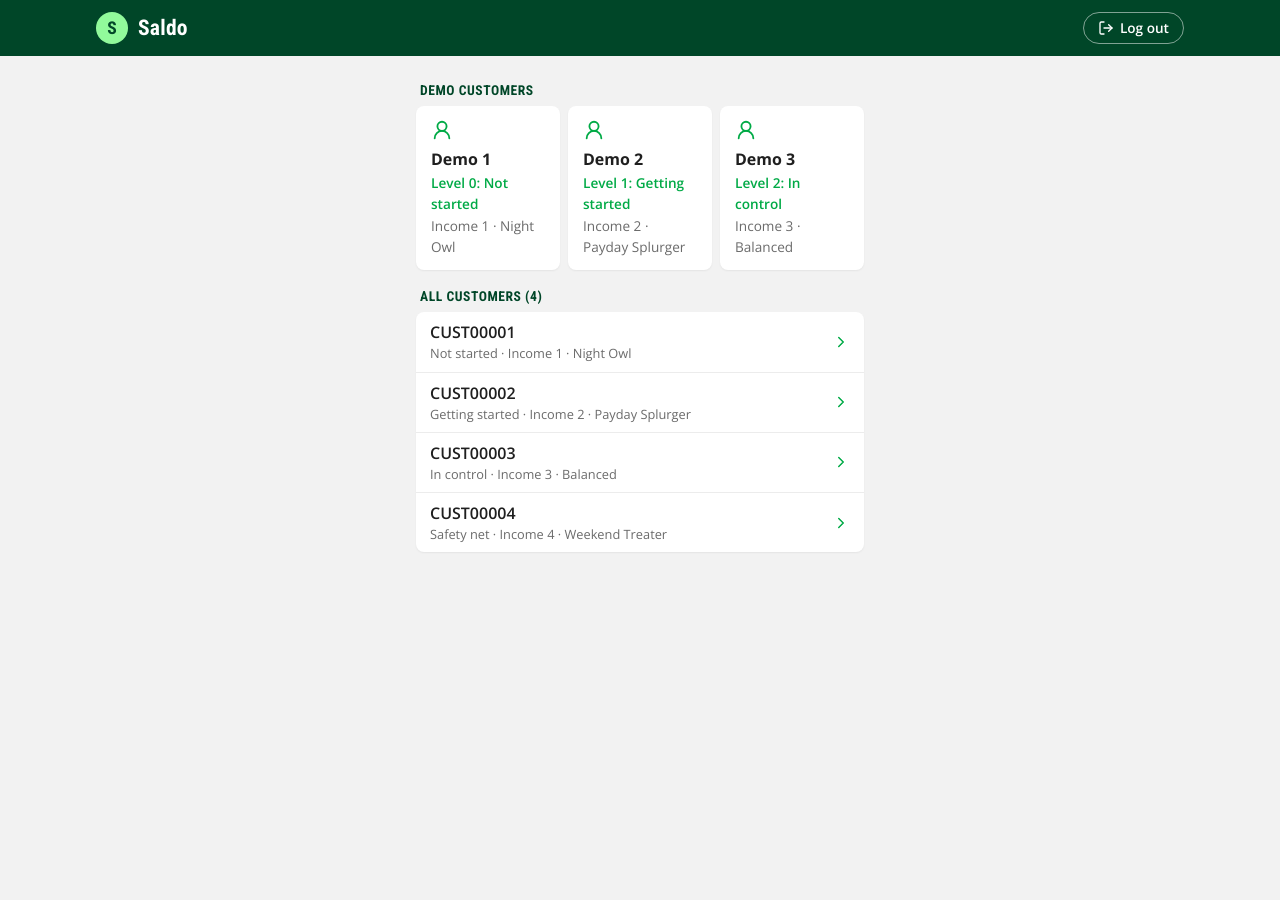
Test case: no fallbacks › a 503 from chat shows the backend error text
The width and height of the screenshot is (1280, 900).
Click the button "Demo 1 Level 0: Not started Income 1 · Night Owl". click: (488, 188)
box: [416,106,560,270]
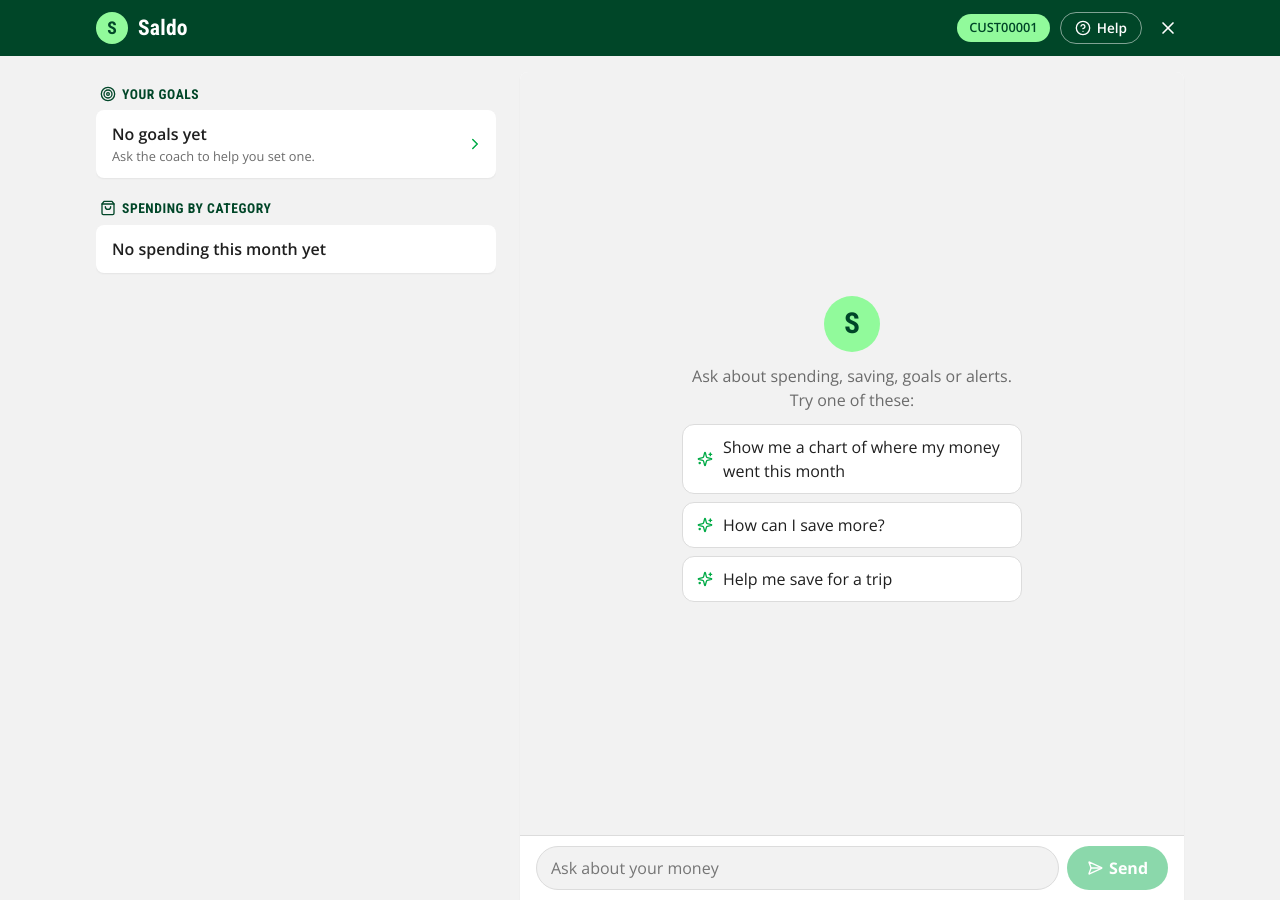
Type "Hi" into the field named "Message". click: (798, 868)
box: [536,846,1059,890]
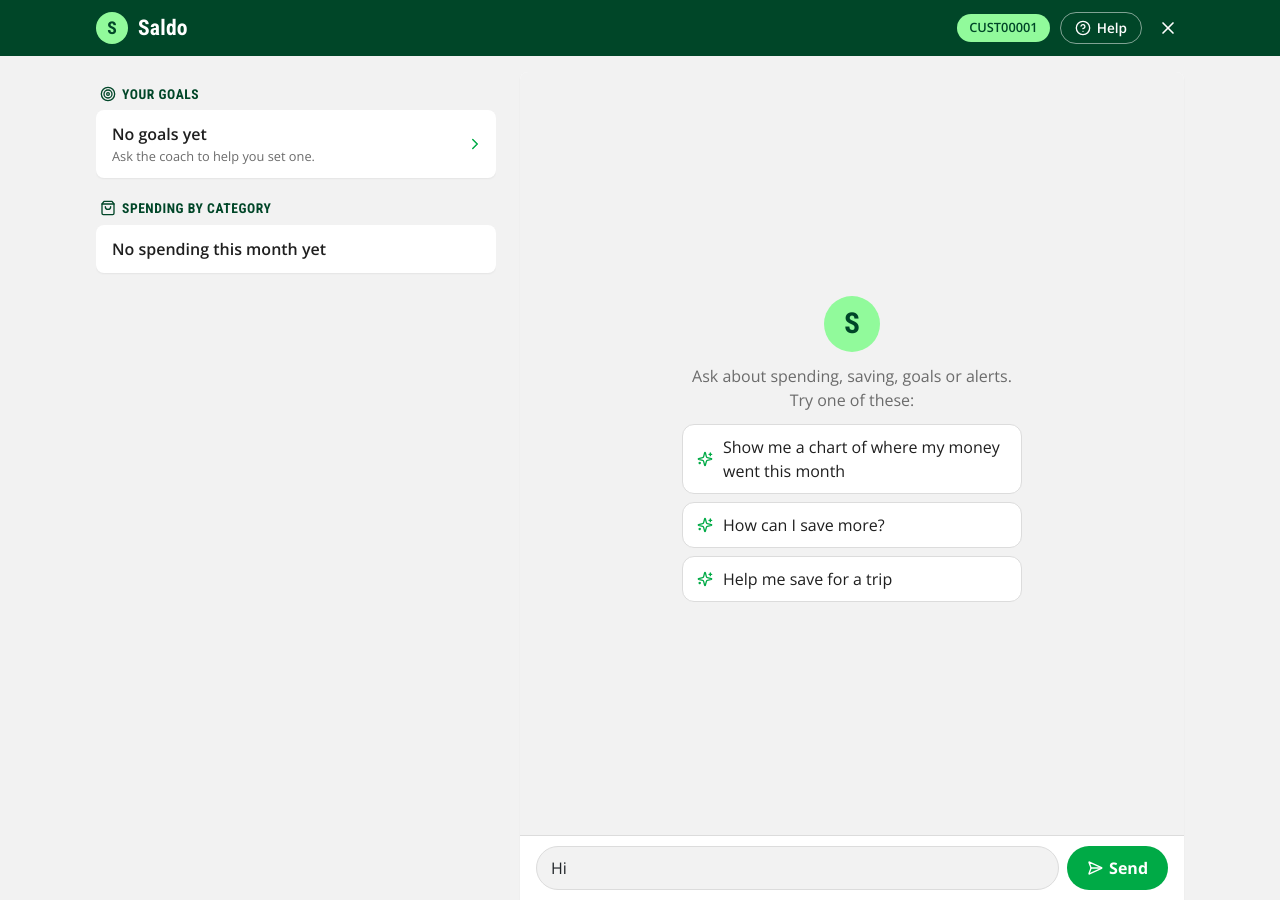
Click the button "Send". click: (1118, 868)
box: [1067,846,1168,890]
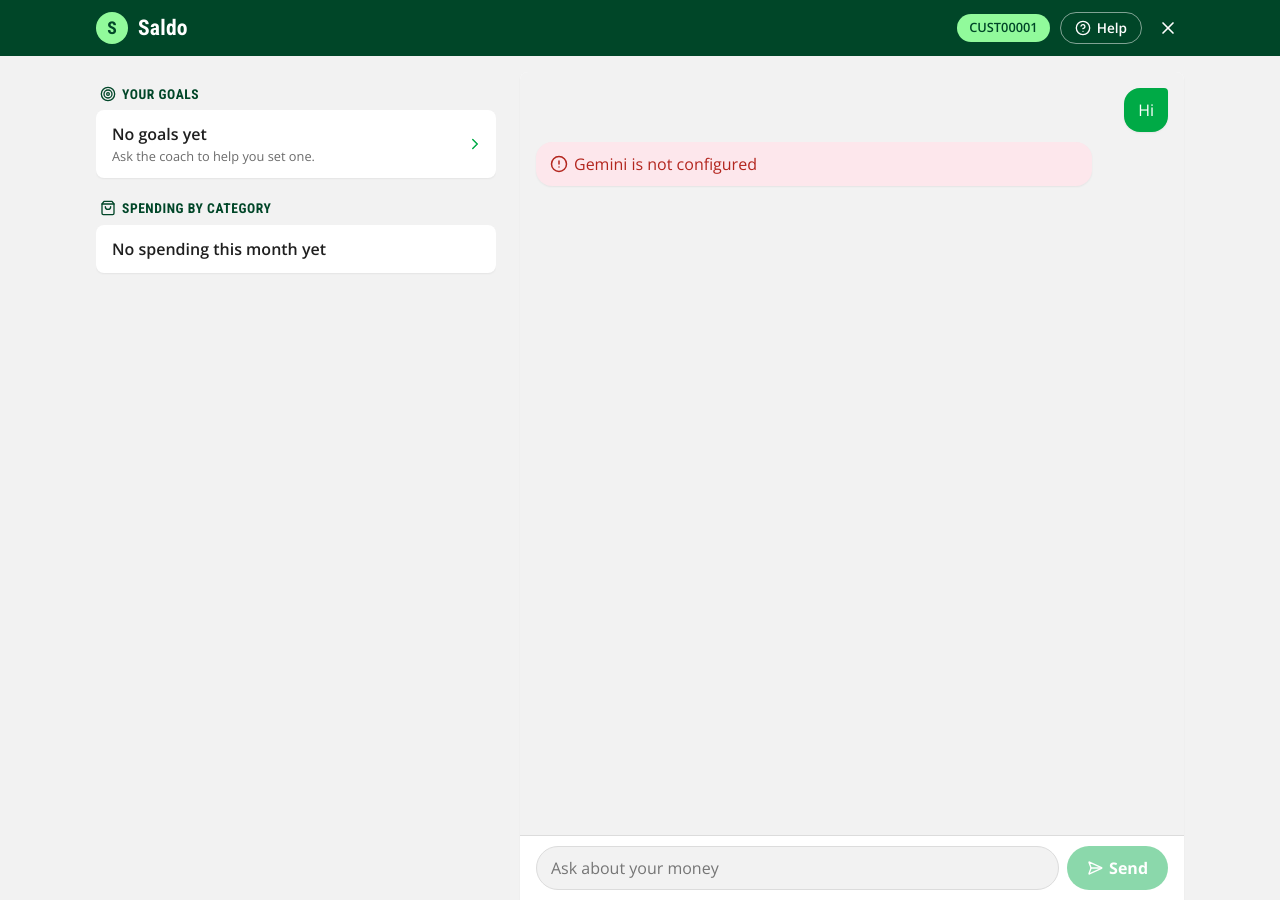
Now the message reads "Gemini is not configured", box [574,153,757,175]
